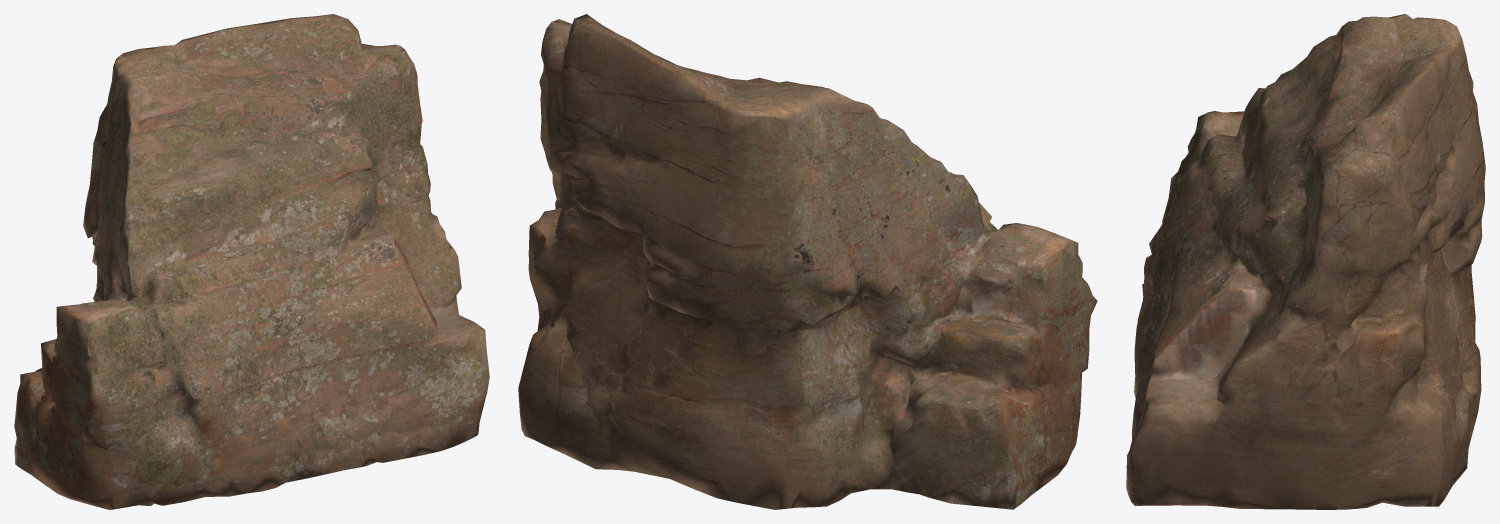
The model's file is nordic_coastal_cliff_ulejebpfa_mid.glb.
The picture shows the model from 3 angles, left to right: view 1: azimuth 30°, elevation 25°; view 2: azimuth 150°, elevation 25°; view 3: azimuth 270°, elevation 25°; orthographic projection. The views are drawn at different scales.
Visible parts, largest first — view 1: ulejebpfa_LOD0_TIER2_000; view 2: ulejebpfa_LOD0_TIER2_000; view 3: ulejebpfa_LOD0_TIER2_000.
Boxes of the visible parts, x1,y1,x2,y2 form: ulejebpfa_LOD0_TIER2_000: (14, 14, 489, 509); ulejebpfa_LOD0_TIER2_000: (518, 14, 1097, 509); ulejebpfa_LOD0_TIER2_000: (1126, 14, 1485, 509).
Bounding box in the file's own units: 2.92 × 2.44 × 2.03.
1 material, 1 textured.
